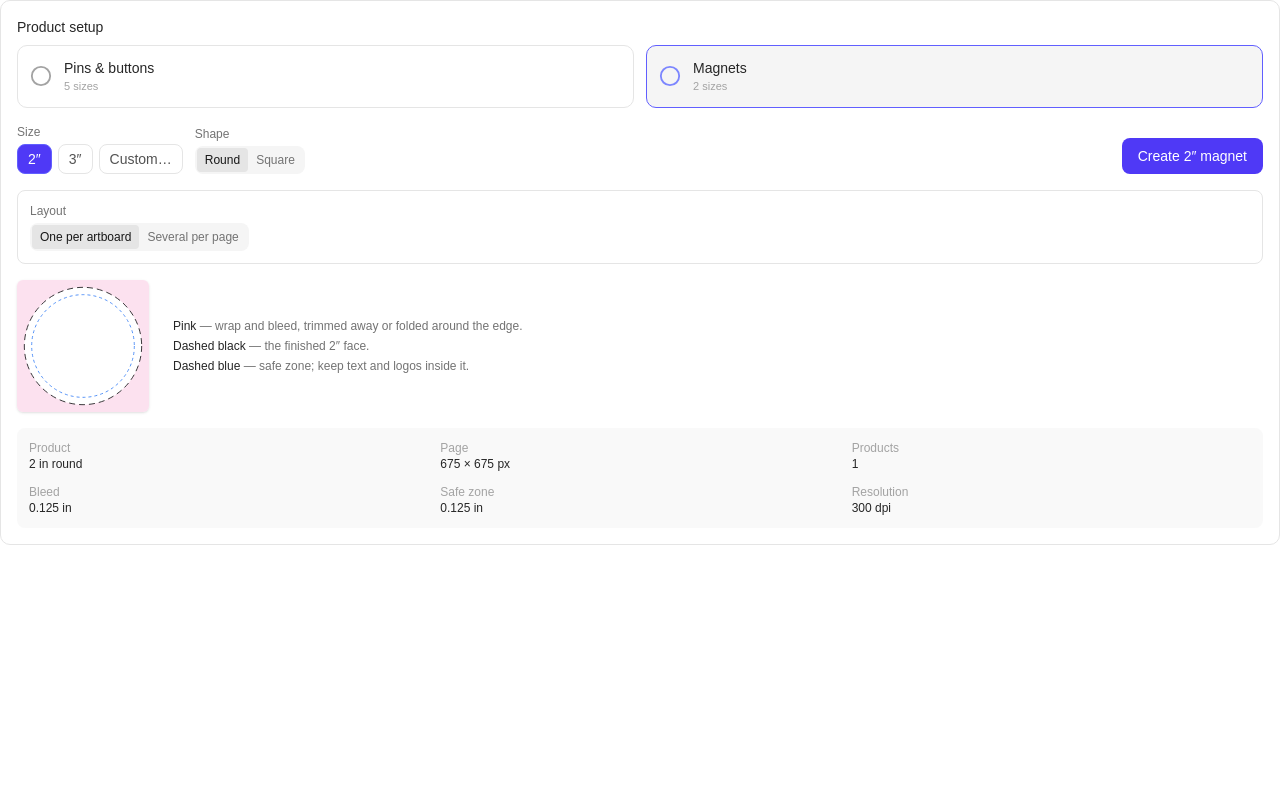
ProductSetupPanel — round or square presets (PROD-001) › holds the outline while another size is picked
Click the button "Square".
click(275, 160)  # box [248, 148, 303, 172]
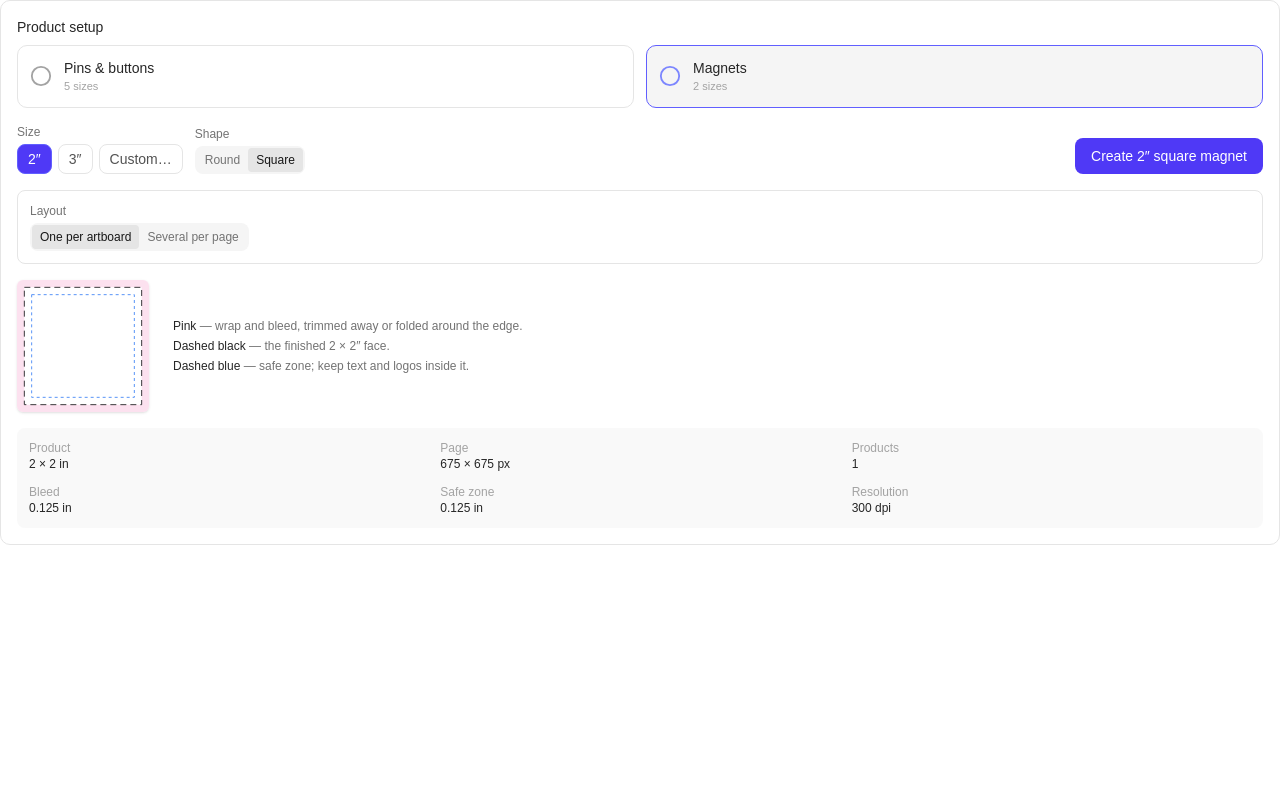
Click the button "3″".
click(75, 158)  # box [58, 144, 93, 174]
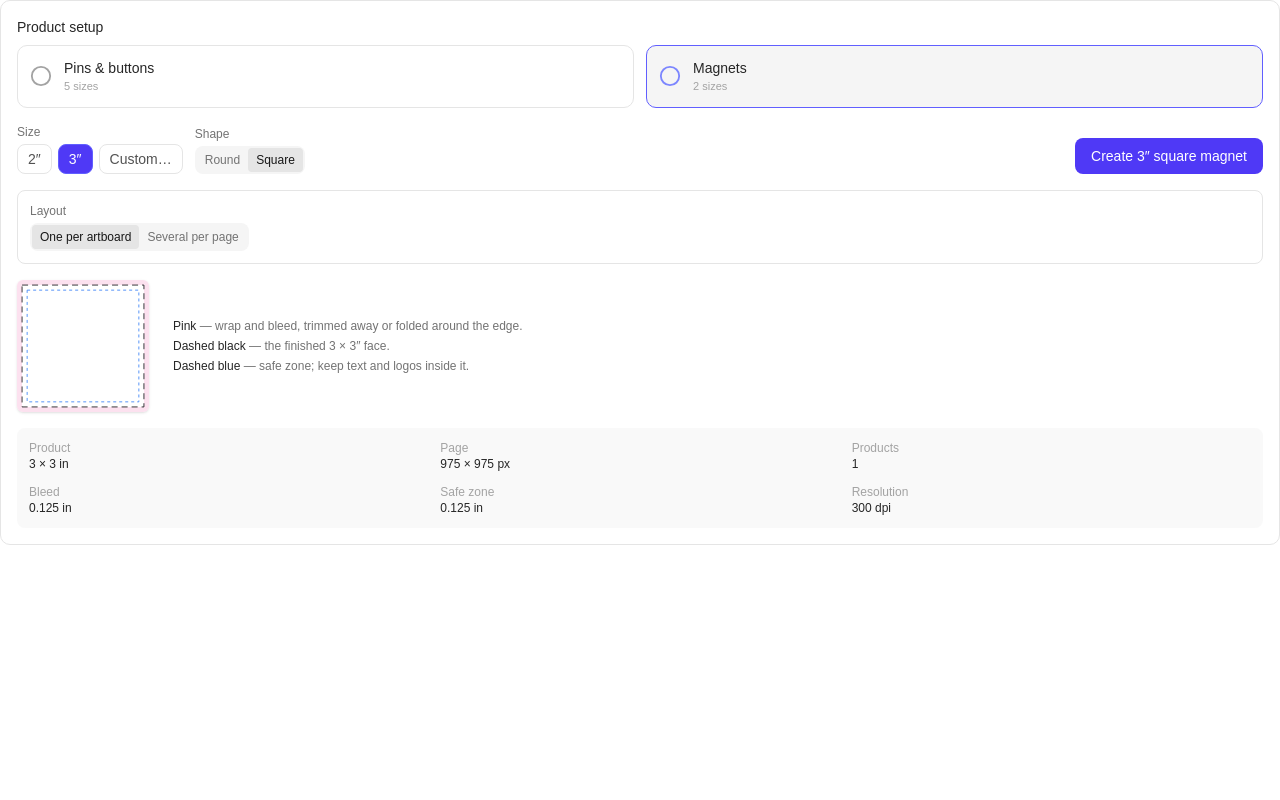
Check: the button "Create 3″ square magnet" is shown, box [1075, 138, 1263, 174]
